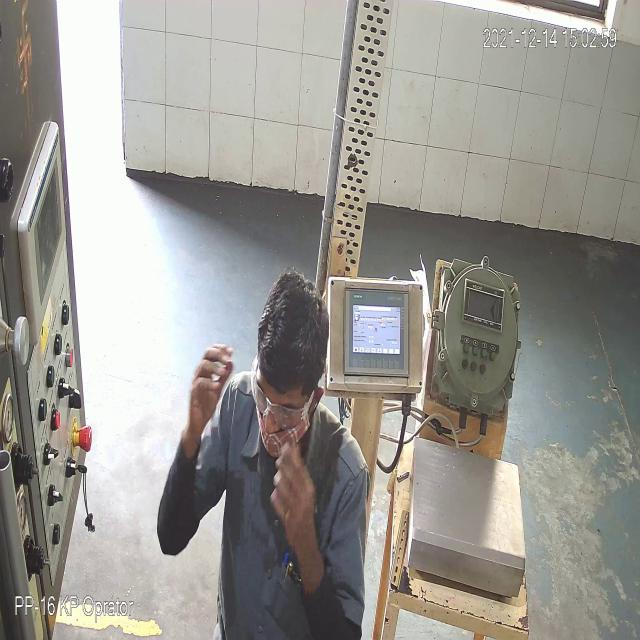glasses: (248, 366, 311, 428)
